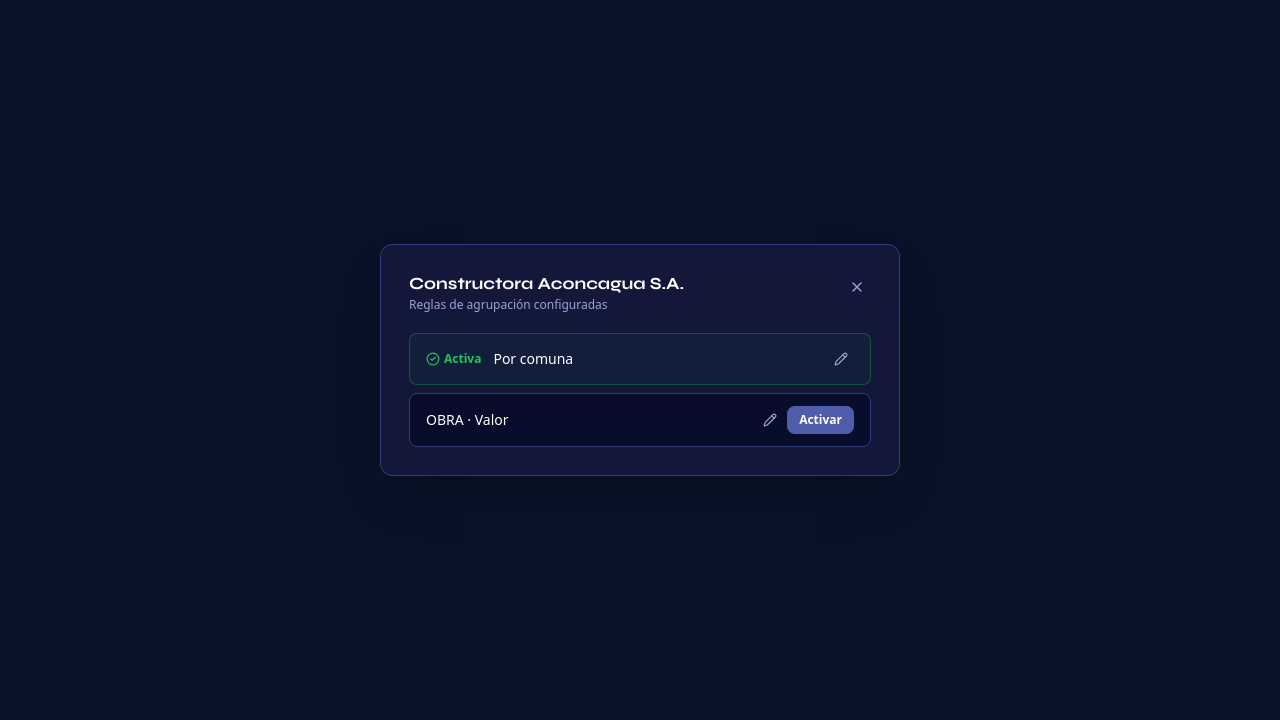
Test case: ReglasPorClienteModal › inline edit reglanombre › al click en editar muestra input con valor actual
The image size is (1280, 720).
What coordinates should you click on to do the following:
click the button with test id "btn-editar-977_campo_receptor_CmnaRecep"
I would click on:
 (841, 359)
Its box is [828,346,854,372].
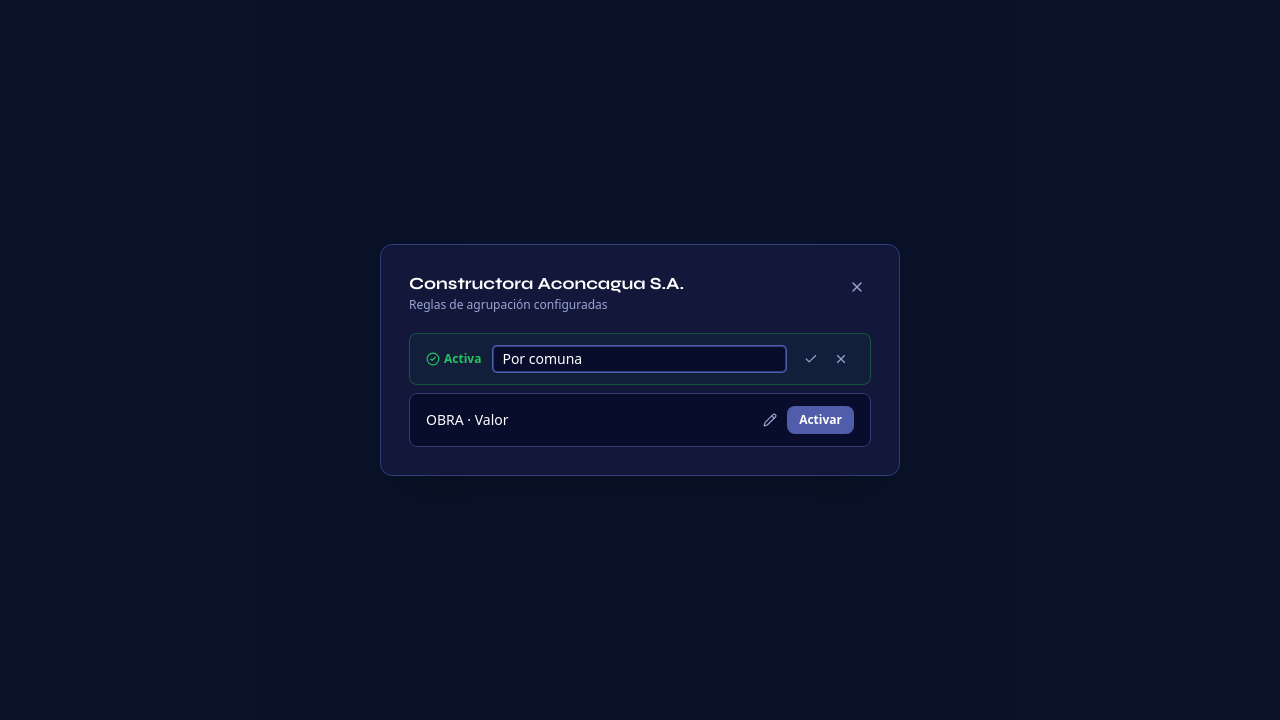
Check: the field with test id "input-nombre-977_campo_receptor_CmnaRecep" holds "Por comuna", box [493,346,786,372]
